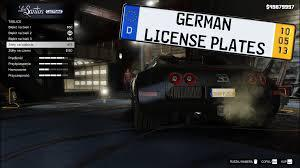A: (228, 38, 239, 52), (213, 16, 222, 30)
C: (161, 30, 171, 44)
E: (197, 34, 207, 48), (246, 40, 256, 54), (185, 13, 194, 27), (170, 31, 179, 45)
G: (176, 12, 186, 26)
I: (153, 28, 160, 43)
L: (219, 37, 229, 51), (144, 28, 153, 41)
M: (203, 15, 214, 29)
N: (179, 32, 189, 45), (222, 18, 231, 31)
P: (209, 36, 220, 49)
R: (194, 14, 203, 28)
S: (255, 42, 267, 55), (189, 33, 198, 47)
T: (238, 39, 247, 53)
